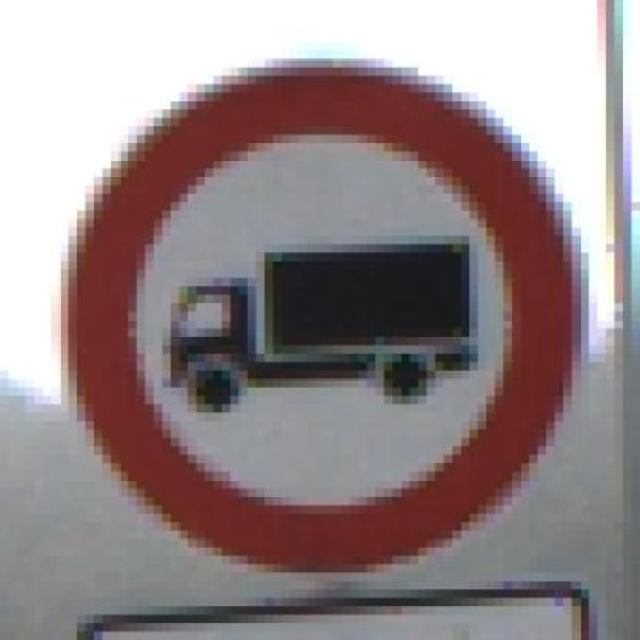Truck traffic is prohibited: (42, 58, 572, 590)
